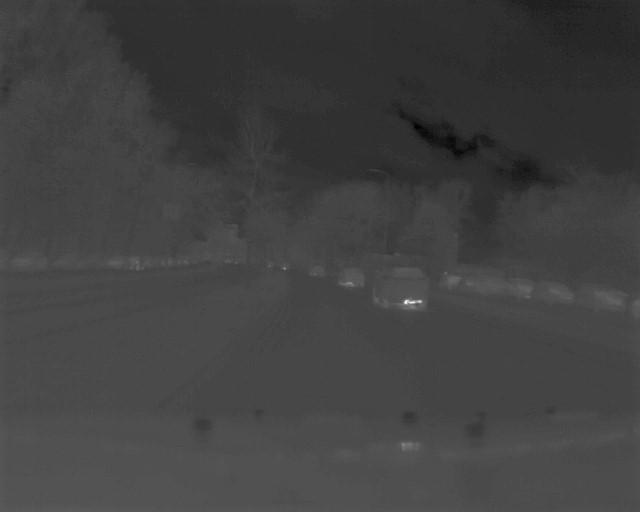car: (371, 265, 431, 314), (533, 280, 575, 308)
